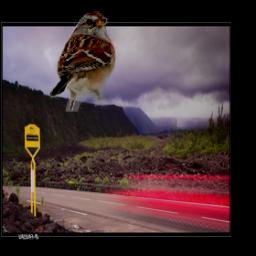Sparrow: (49, 12, 116, 113)
